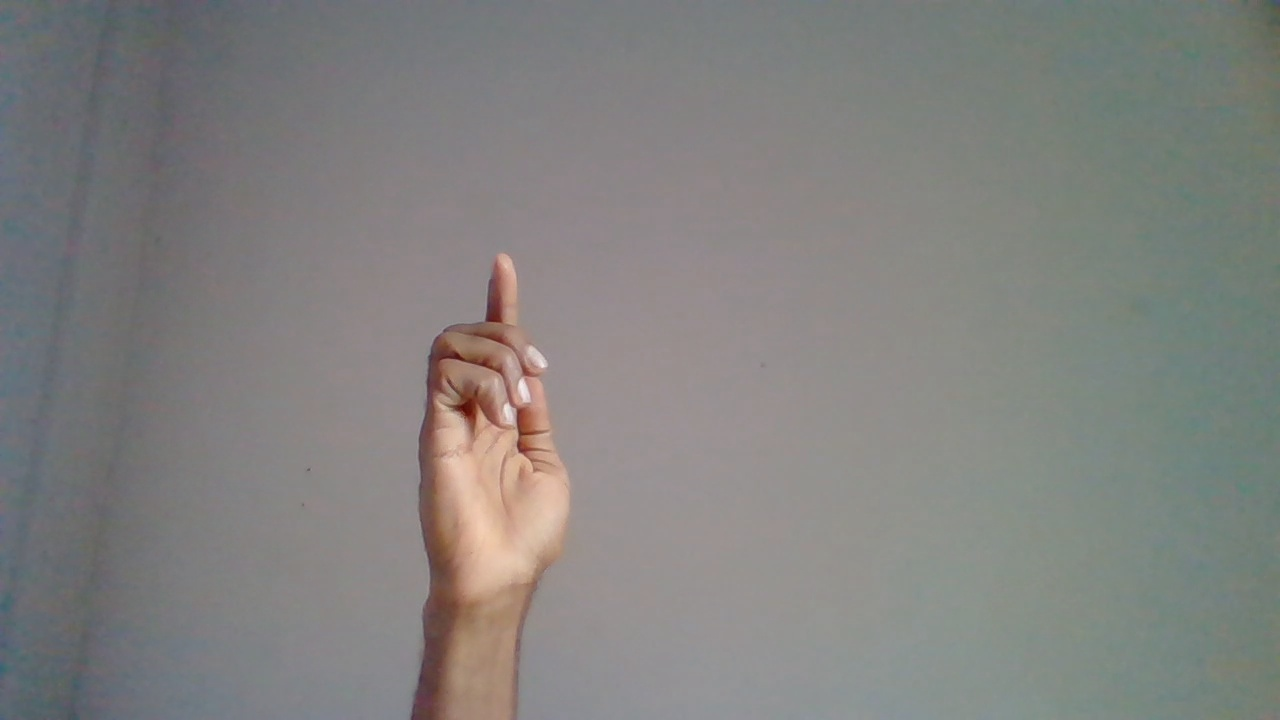qe: (418, 256, 575, 693)
